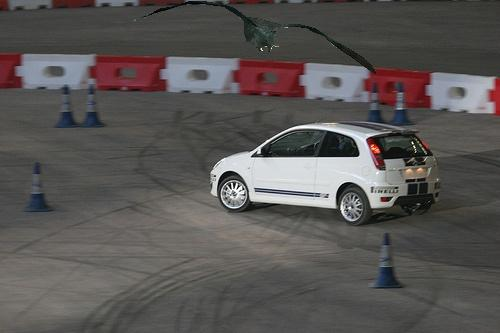tampered: (134, 2, 376, 74)
